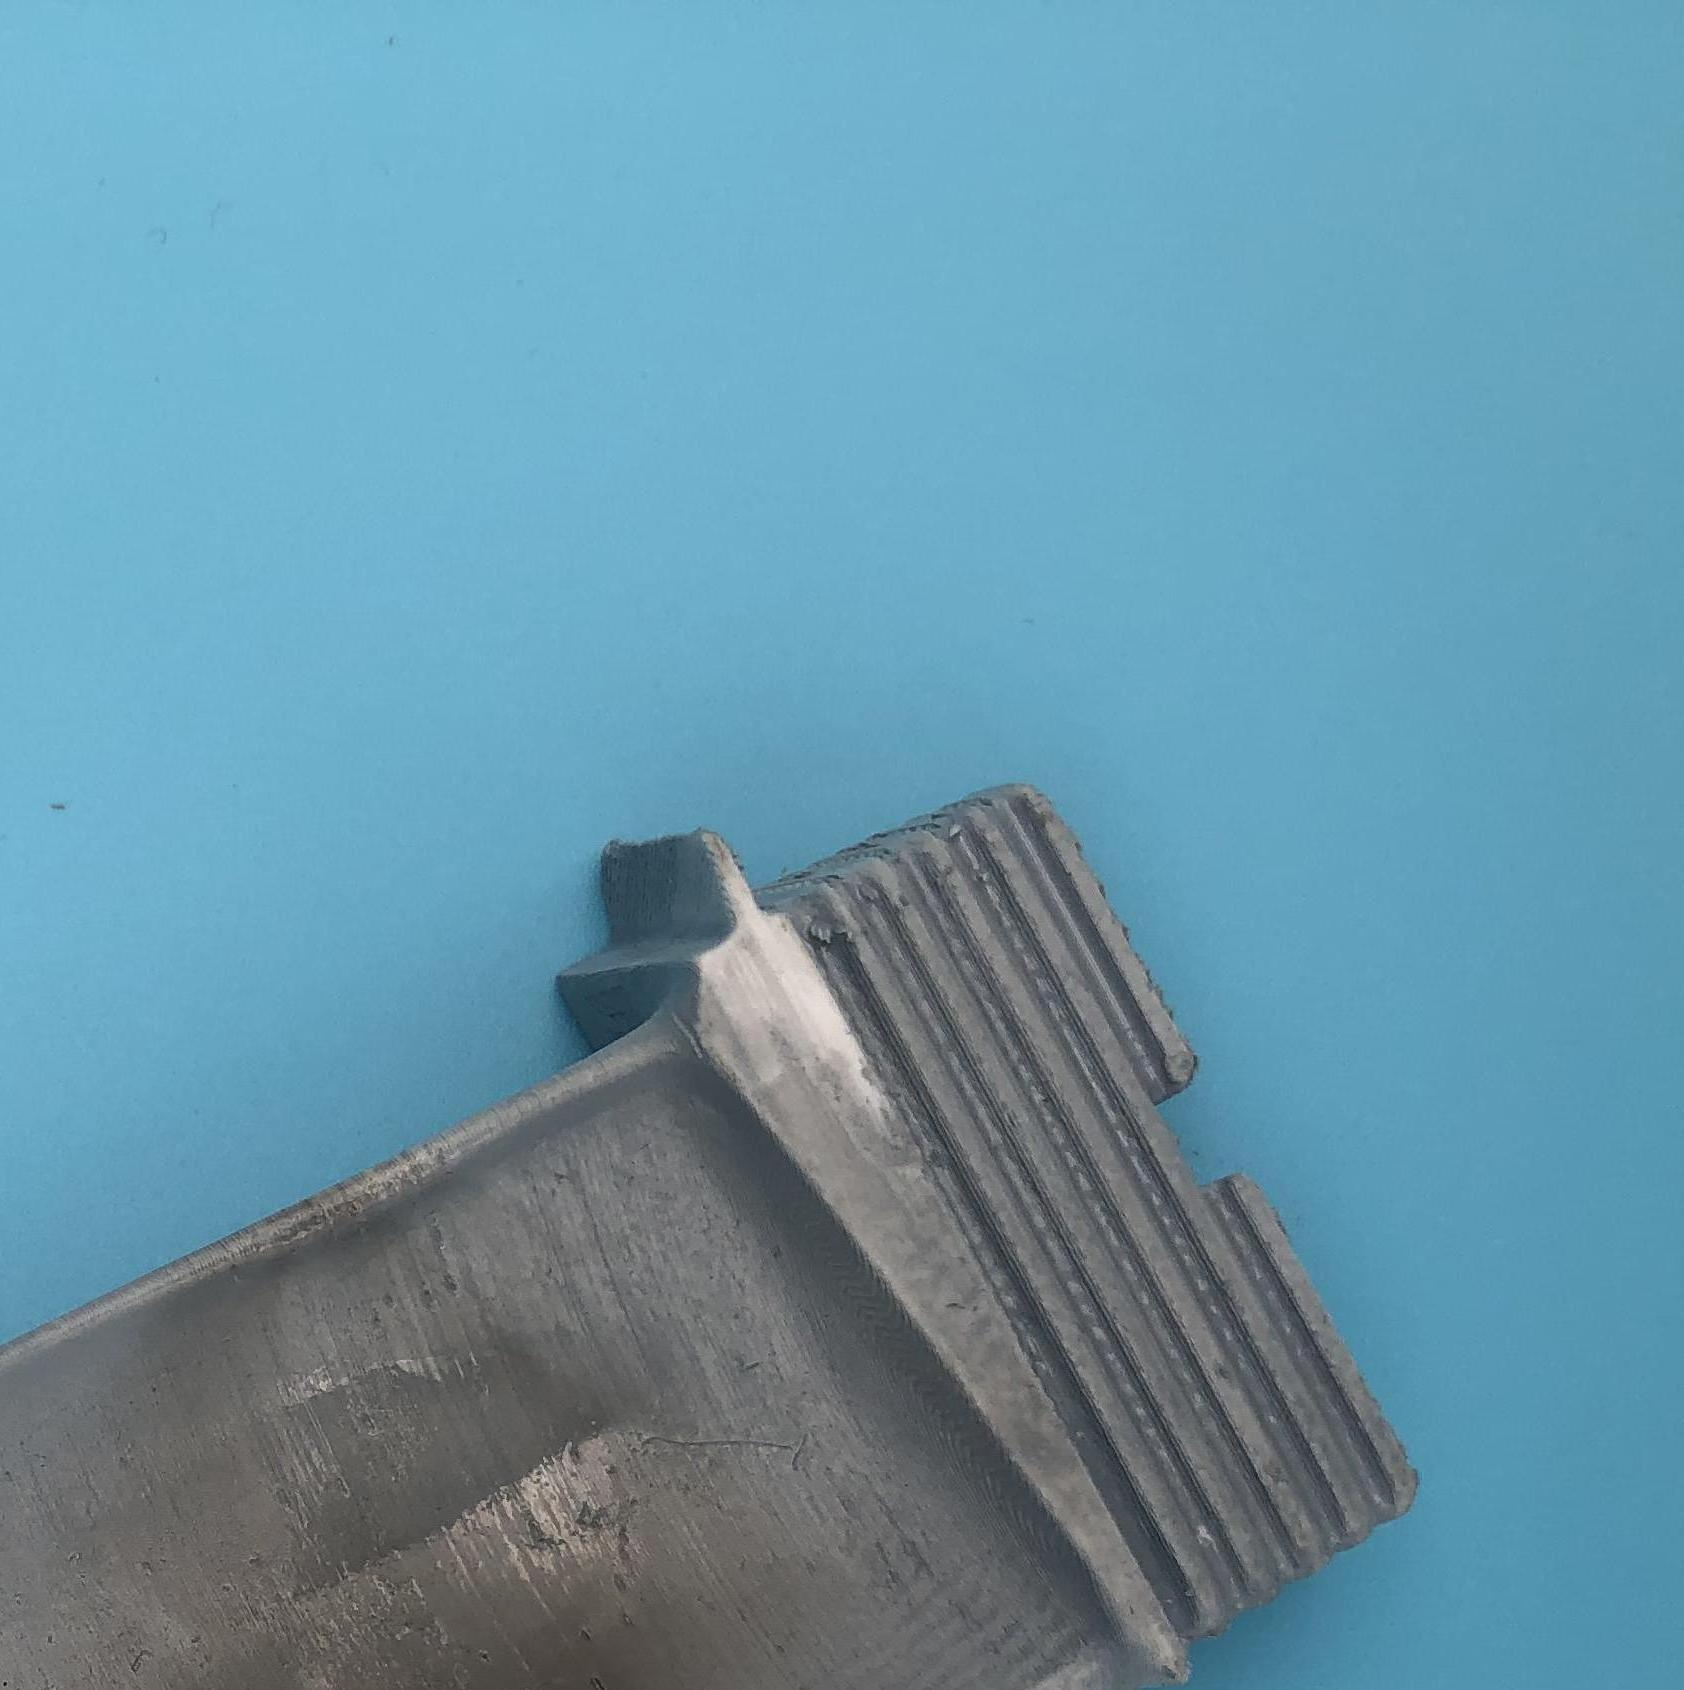ablation: (316, 1369, 688, 1655)
